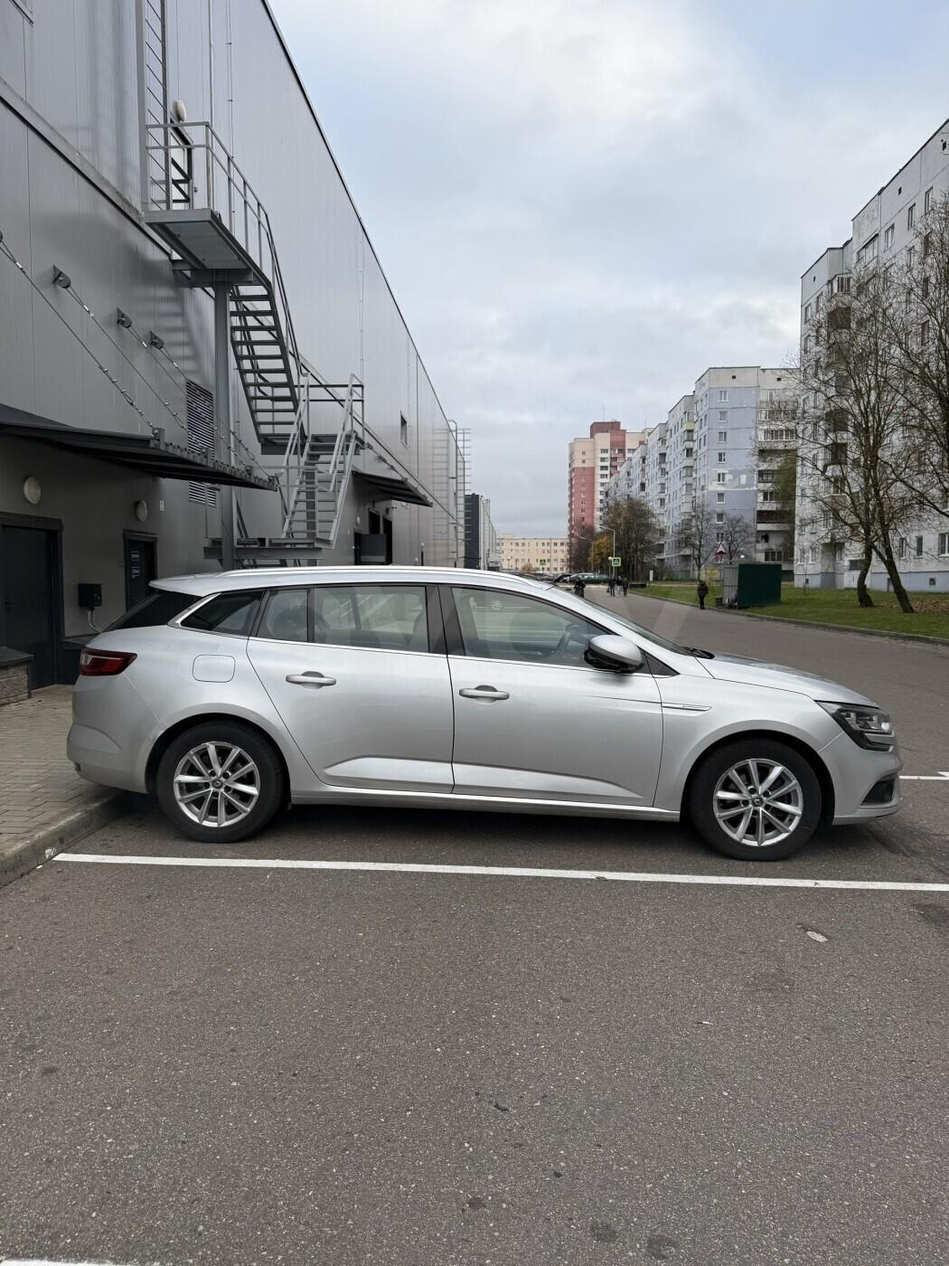Megane_2016-2020: (58, 561, 907, 881)
